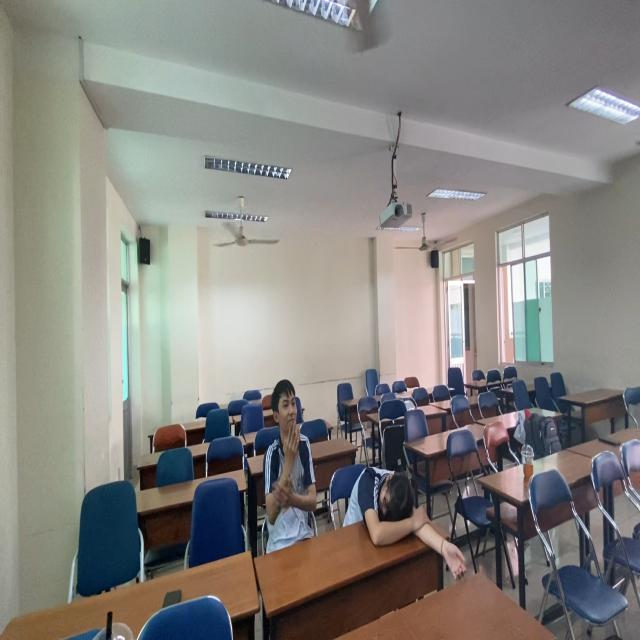sleep: (342, 453, 468, 583)
